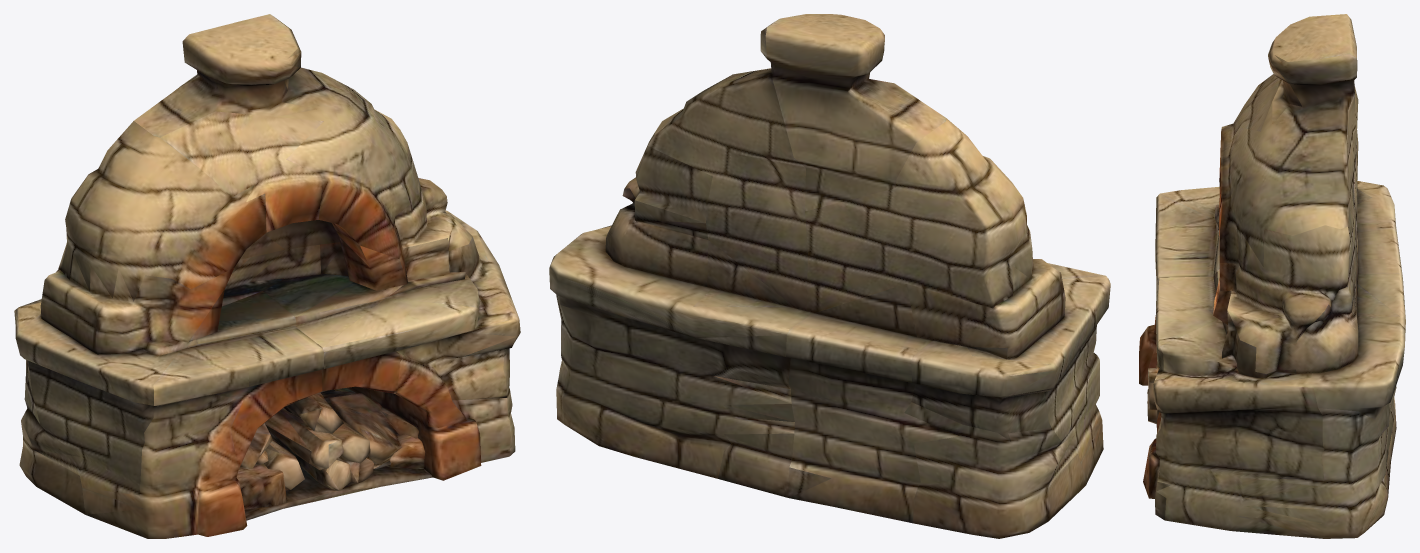
The model's file is CookingRange.glb.
3 views of the same model, side by side, from view 1: azimuth 30°, elevation 25°; view 2: azimuth 150°, elevation 25°; view 3: azimuth 270°, elevation 25° (orthographic). The views are drawn at different scales.
Parts seen in each view (by area): view 1: CookingRange; view 2: CookingRange; view 3: CookingRange.
Part boxes in pixels (x1=…): CookingRange: x1=14, y1=14, x2=520, y2=538; CookingRange: x1=549, y1=14, x2=1110, y2=538; CookingRange: x1=1139, y1=14, x2=1405, y2=538.
Bounding box in the file's own units: 1 × 0.8633 × 0.5254.
Materials: 1 (1 with a texture image).
